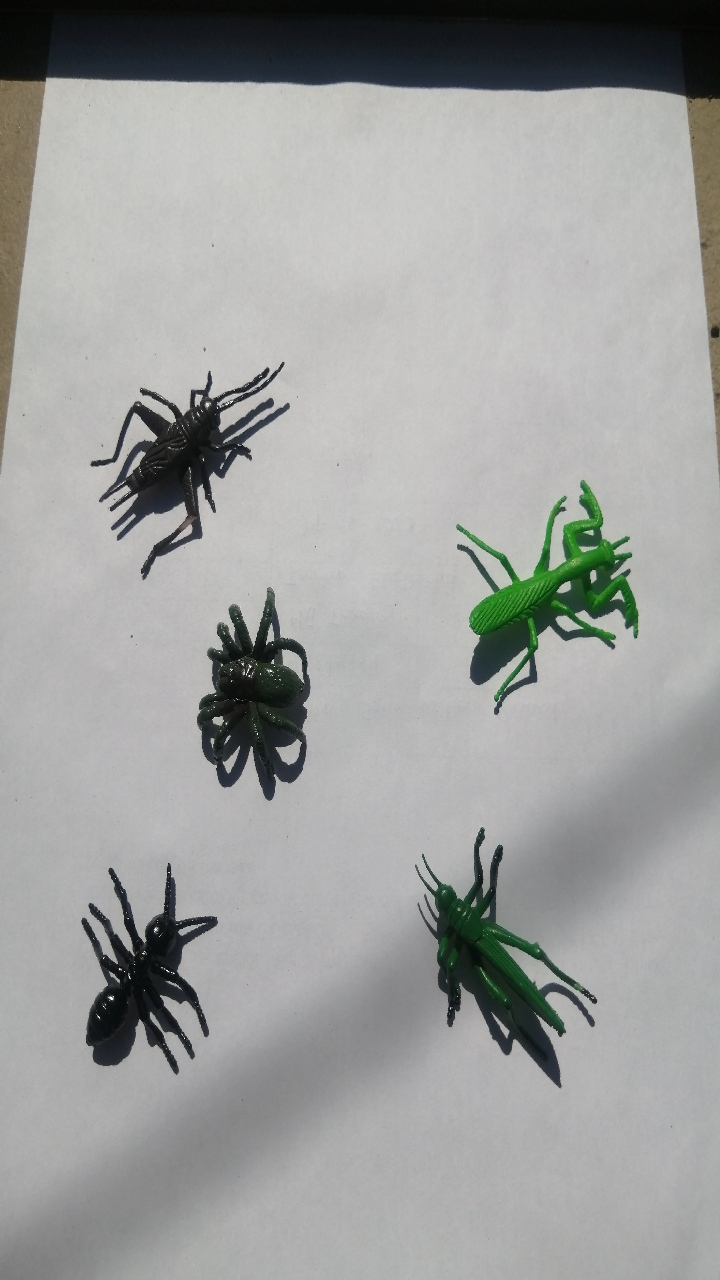intruso: (369, 783, 631, 1115), (48, 309, 326, 583), (52, 825, 261, 1106), (446, 446, 669, 708), (171, 559, 348, 803)
